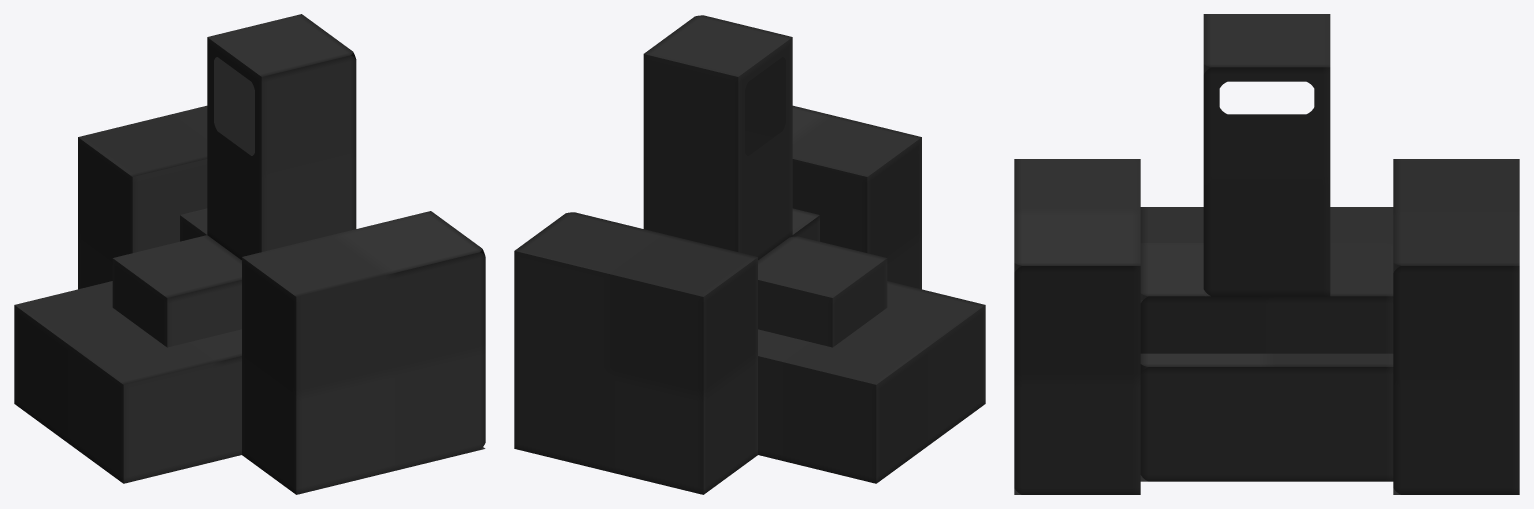
File: scarh_is1.obj
3 views of the same model, side by side, from view 1: azimuth 30°, elevation 25°; view 2: azimuth 150°, elevation 25°; view 3: azimuth 270°, elevation 25° (orthographic). The views are drawn at different scales.
Parts seen in each view (by area): view 1: Shape2, Shape5, Shape1, Shape4, Shape6, Shape3; view 2: Shape4, Shape5, Shape1, Shape2, Shape6, Shape3; view 3: Shape2, Shape4, Shape1, Shape5, Shape3.
Boxes of the visible parts, x1,y1,x2,y2 form: Shape2: [242, 211, 485, 494]; Shape5: [207, 14, 356, 259]; Shape1: [14, 281, 241, 483]; Shape4: [78, 105, 207, 289]; Shape6: [112, 235, 241, 347]; Shape3: [180, 208, 207, 241]; Shape4: [514, 212, 757, 494]; Shape5: [643, 15, 792, 259]; Shape1: [758, 281, 985, 483]; Shape2: [792, 105, 921, 289]; Shape6: [758, 236, 887, 347]; Shape3: [790, 208, 819, 241]; Shape2: [1014, 159, 1140, 494]; Shape4: [1393, 159, 1519, 494]; Shape1: [1140, 207, 1393, 481]; Shape5: [1203, 14, 1330, 296]; Shape3: [1140, 243, 1393, 373].
Bounding box in the file's own units: 0.2031 × 0.2188 × 0.25.
